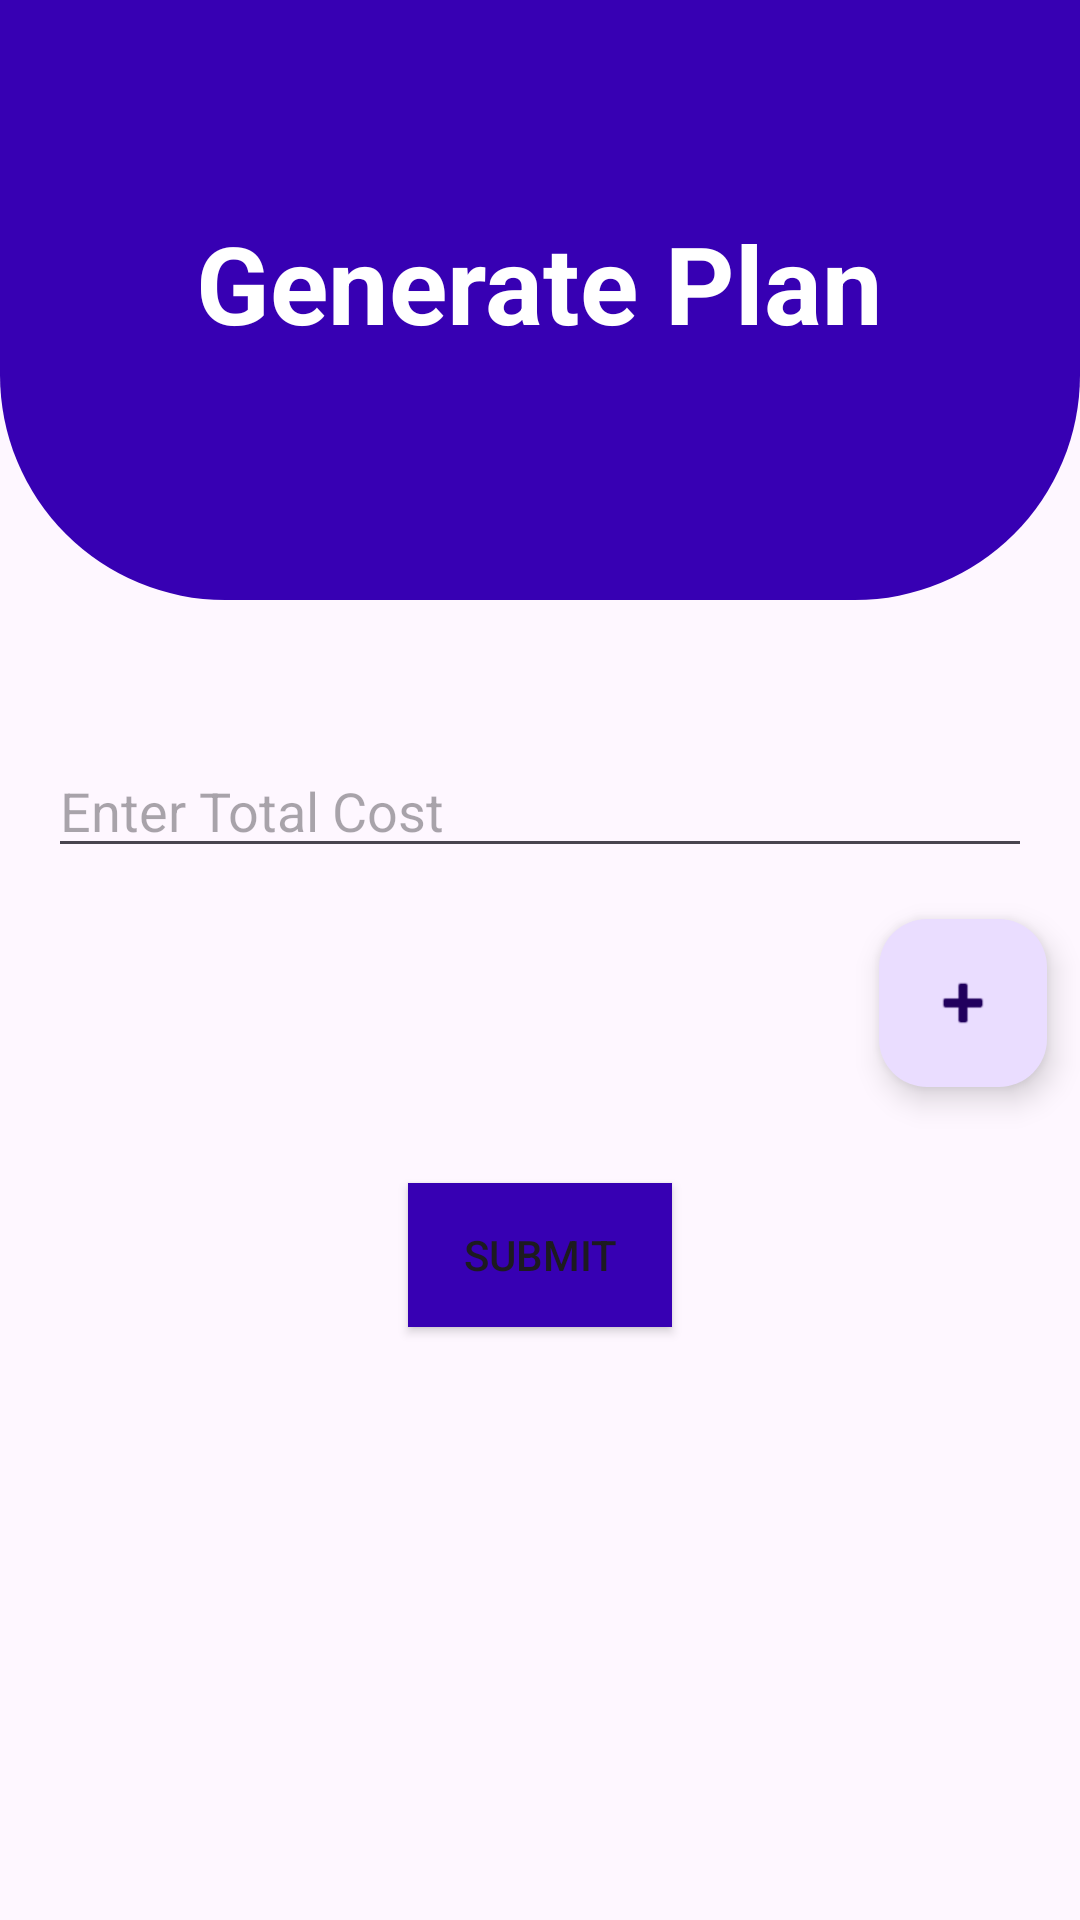

Locate icon controls on the screen. Image size 1080x1920, boxes as detection(x1, y1, x2, y2).
add: detection(879, 919, 1047, 1087)
